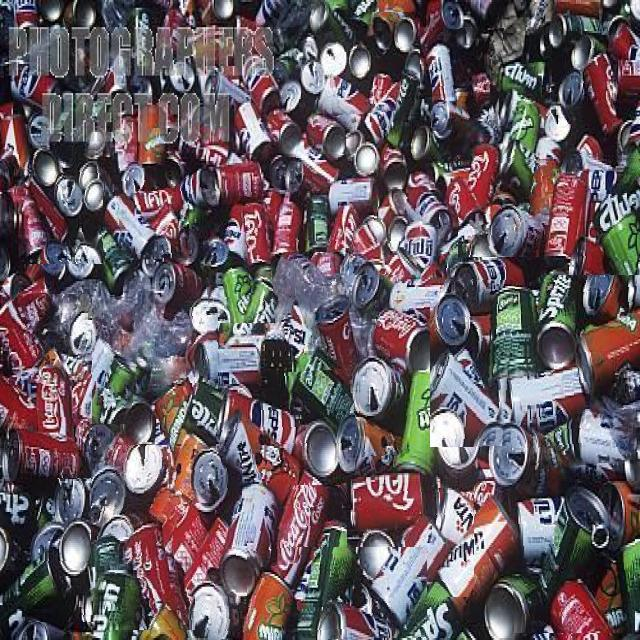Cans: (522, 275, 640, 470), (430, 249, 518, 447), (509, 512, 635, 633), (351, 478, 474, 597), (558, 152, 640, 316), (244, 445, 347, 568), (199, 180, 287, 323), (300, 547, 428, 640), (356, 300, 431, 457), (259, 367, 355, 485), (91, 445, 181, 568), (13, 146, 103, 264), (270, 248, 349, 373), (328, 12, 420, 116), (458, 154, 548, 257), (261, 138, 338, 252), (25, 520, 104, 622), (353, 155, 420, 275), (432, 28, 504, 132), (9, 294, 90, 386), (114, 162, 189, 260), (526, 36, 612, 118), (280, 65, 356, 154), (92, 294, 144, 424), (166, 424, 242, 506), (155, 307, 218, 398), (19, 404, 92, 478), (108, 570, 195, 630), (179, 532, 247, 596), (195, 598, 282, 640)
